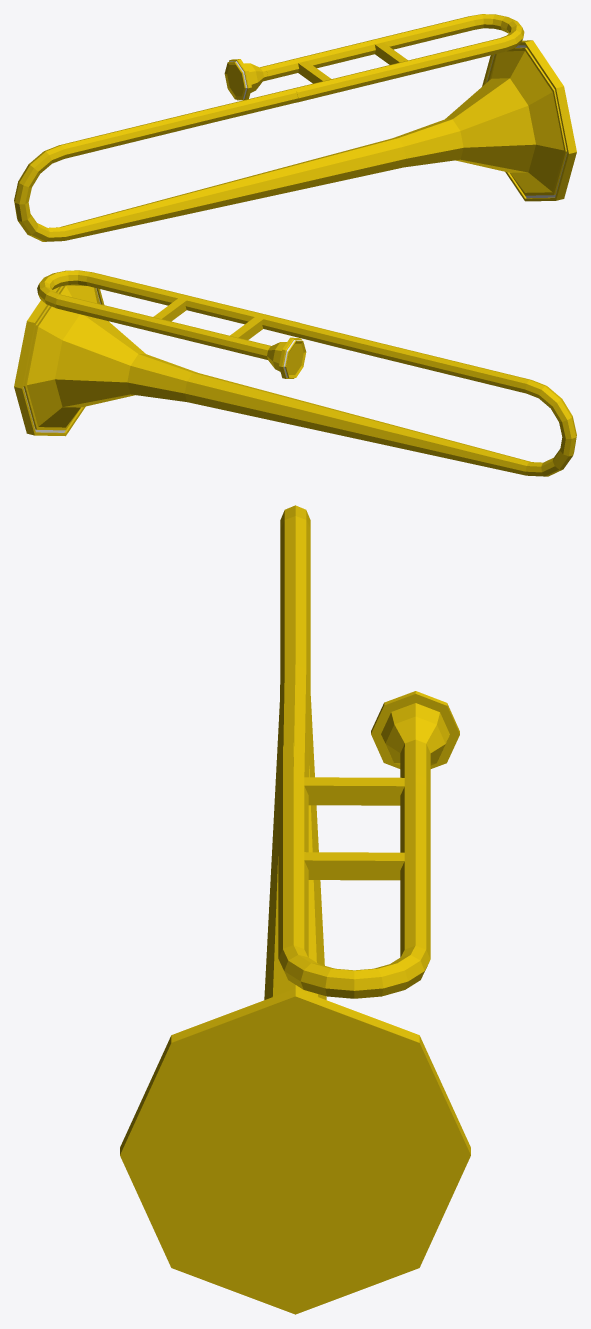
Rendered from testtrombone.fbx.
3 views of the same model, one above another, from view 1: azimuth 30°, elevation 25°; view 2: azimuth 150°, elevation 25°; view 3: azimuth 270°, elevation 25° (orthographic). The views are drawn at different scales.
Parts seen in each view (by area): view 1: main, handle; view 2: main, handle; view 3: main, handle.
Boxes of the visible parts, x1,y1,x2,y2 form: main: [14, 40, 576, 241]; handle: [264, 14, 524, 102]; main: [14, 284, 576, 476]; handle: [37, 270, 299, 349]; main: [120, 505, 470, 1314]; handle: [278, 742, 430, 998].
Size of the model in its own units: 279 by 93.61 by 81.65.
